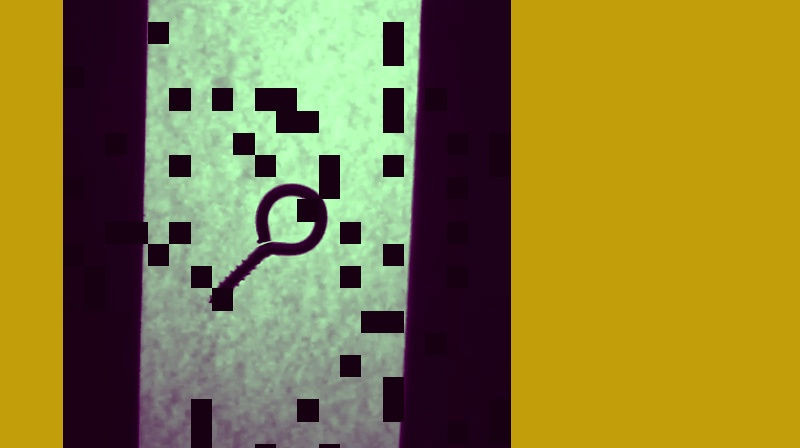O001: (206, 176, 330, 306)
